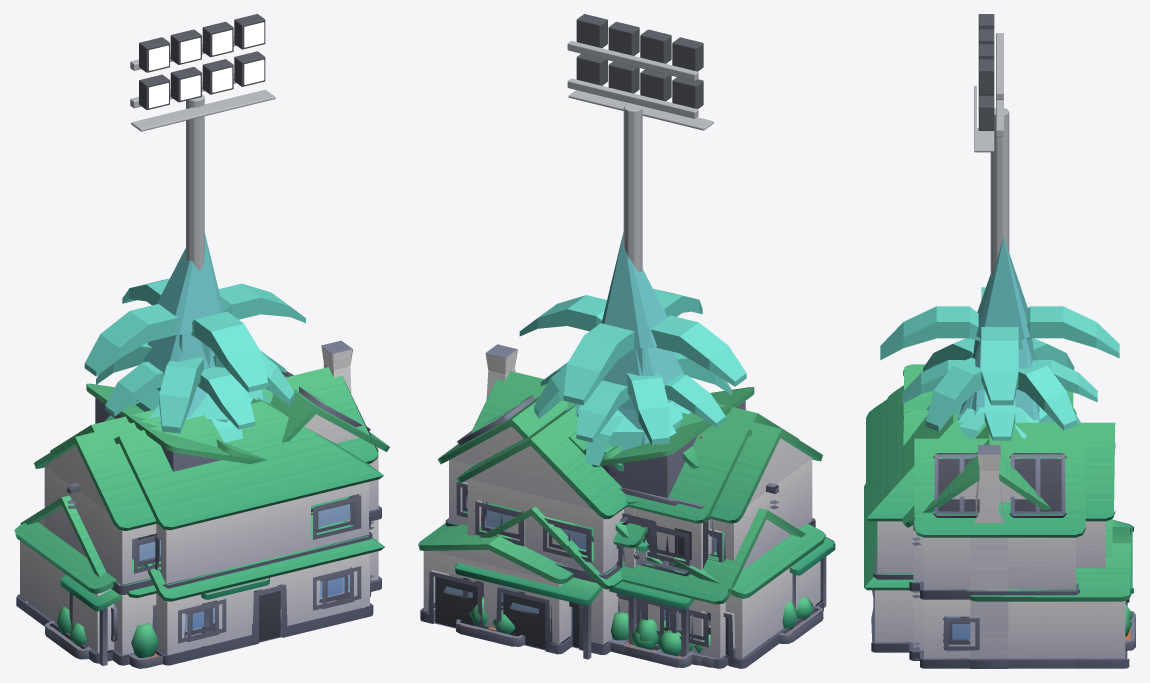
The model's file is props.glb.
3 views of the same model, side by side, from view 1: azimuth 30°, elevation 25°; view 2: azimuth 150°, elevation 25°; view 3: azimuth 270°, elevation 25° (orthographic). The views are drawn at different scales.
Parts seen in each view (by area): view 1: house_f, house_n, house_m, custom_lightTower, house_d, palm_tall, palm_detailed, house_b, pine_tallB, house_k, house_e, tree_pineTall (+2 smaller); view 2: house_n, house_f, house_d, custom_lightTower, house_b, palm_tall, house_e, palm_detailed, house_k, pine_tallB, house_m, tree_pineTall (+7 smaller); view 3: house_b, house_f, house_d, palm_detailed, palm_tall, house_n, custom_lightTower, pine_tallB, house_m, tree_pineTall, house_k, palm_bend (+2 smaller).
Boxes of the visible parts, bbox=[...] form: house_f: bbox=[104, 397, 383, 668]; house_n: bbox=[33, 416, 324, 665]; house_m: bbox=[144, 512, 384, 665]; custom_lightTower: bbox=[130, 14, 275, 270]; house_d: bbox=[14, 340, 378, 663]; palm_tall: bbox=[84, 278, 305, 392]; palm_detailed: bbox=[96, 342, 294, 433]; house_b: bbox=[20, 371, 389, 659]; pine_tallB: bbox=[156, 233, 223, 417]; house_k: bbox=[86, 383, 264, 471]; house_e: bbox=[50, 371, 346, 540]; tree_pineTall: bbox=[143, 334, 215, 374]; house_n: bbox=[418, 412, 835, 667]; house_f: bbox=[455, 403, 799, 659]; house_d: bbox=[465, 344, 826, 668]; custom_lightTower: bbox=[567, 14, 713, 272]; house_b: bbox=[437, 395, 823, 668]; palm_tall: bbox=[519, 289, 746, 405]; house_e: bbox=[513, 376, 752, 667]; palm_detailed: bbox=[534, 352, 731, 445]; house_k: bbox=[591, 387, 754, 554]; pine_tallB: bbox=[601, 232, 671, 429]; house_m: bbox=[455, 506, 622, 653]; tree_pineTall: bbox=[602, 347, 683, 444]; house_b: bbox=[912, 438, 1108, 668]; house_f: bbox=[866, 388, 1133, 652]; house_d: bbox=[902, 428, 1078, 668]; palm_detailed: bbox=[902, 338, 1097, 440]; palm_tall: bbox=[880, 287, 1119, 405]; house_n: bbox=[887, 385, 1131, 668]; custom_lightTower: bbox=[974, 14, 1009, 277]; pine_tallB: bbox=[959, 237, 1039, 414]; house_m: bbox=[864, 483, 1135, 652]; tree_pineTall: bbox=[971, 338, 1040, 422]; house_k: bbox=[903, 364, 1073, 444]; palm_bend: bbox=[926, 408, 1080, 438].
Bounding box in the file's own units: 15.54 × 27.4 × 12.14.
Materials: 73 (24 with a texture image).
